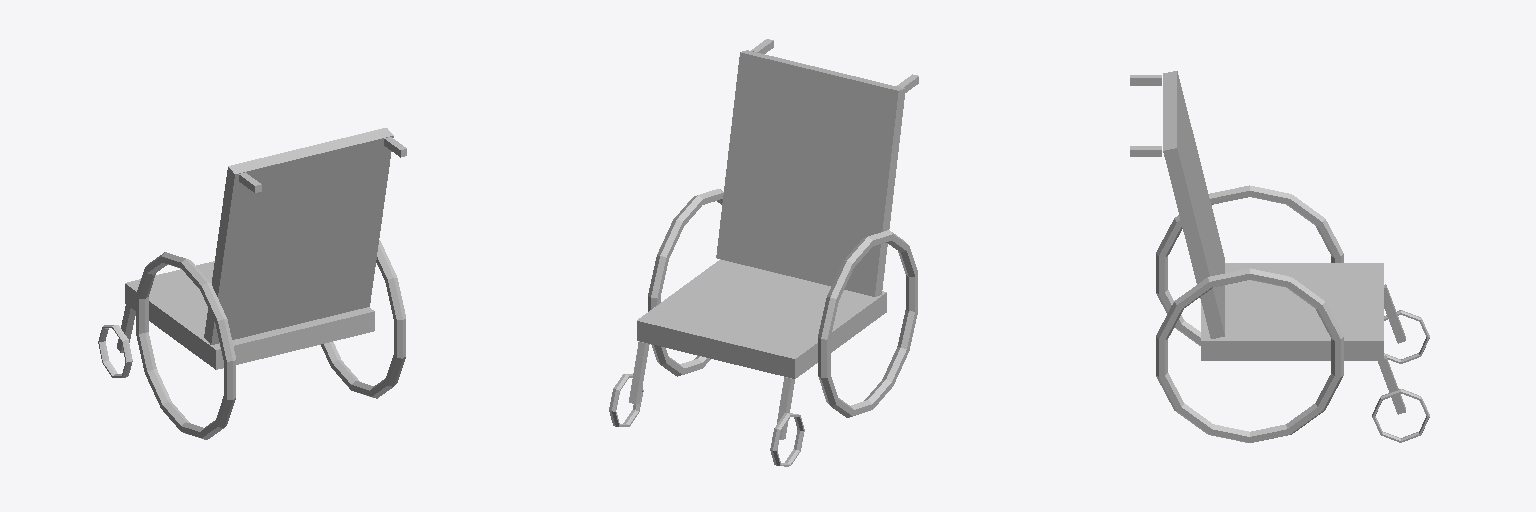
The model's file is player.obj.
3 views of the same model, side by side, from view 1: azimuth 30°, elevation 25°; view 2: azimuth 150°, elevation 25°; view 3: azimuth 270°, elevation 25° (orthographic).
Parts seen in each view (by area): view 1: Cube.001_Cube.000; view 2: Cube.001_Cube.000; view 3: Cube.001_Cube.000.
Boxes of the visible parts, <box> form: Cube.001_Cube.000: <box>98,128,406,439</box>; Cube.001_Cube.000: <box>609,39,918,466</box>; Cube.001_Cube.000: <box>1130,71,1429,442</box>.
Bounding box in the file's own units: 1.48 × 2.31 × 2.14.